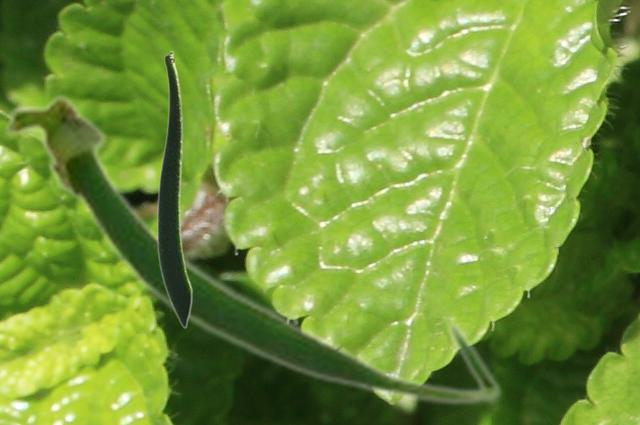french_bean: (0, 90, 503, 407), (156, 50, 192, 328)
